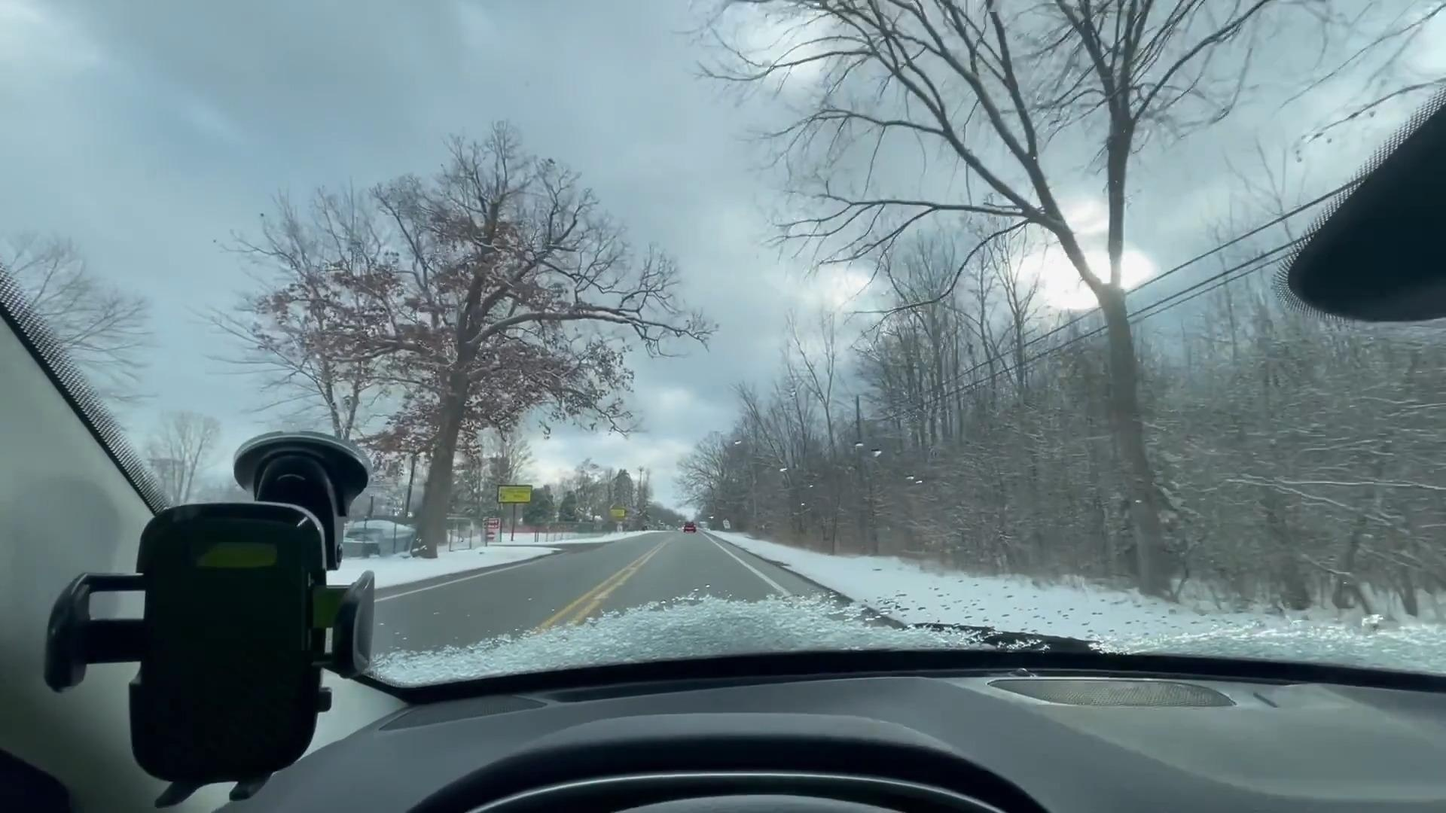Ice: (374, 528, 864, 656)
Snow: (714, 531, 1444, 648), (342, 531, 657, 593)
